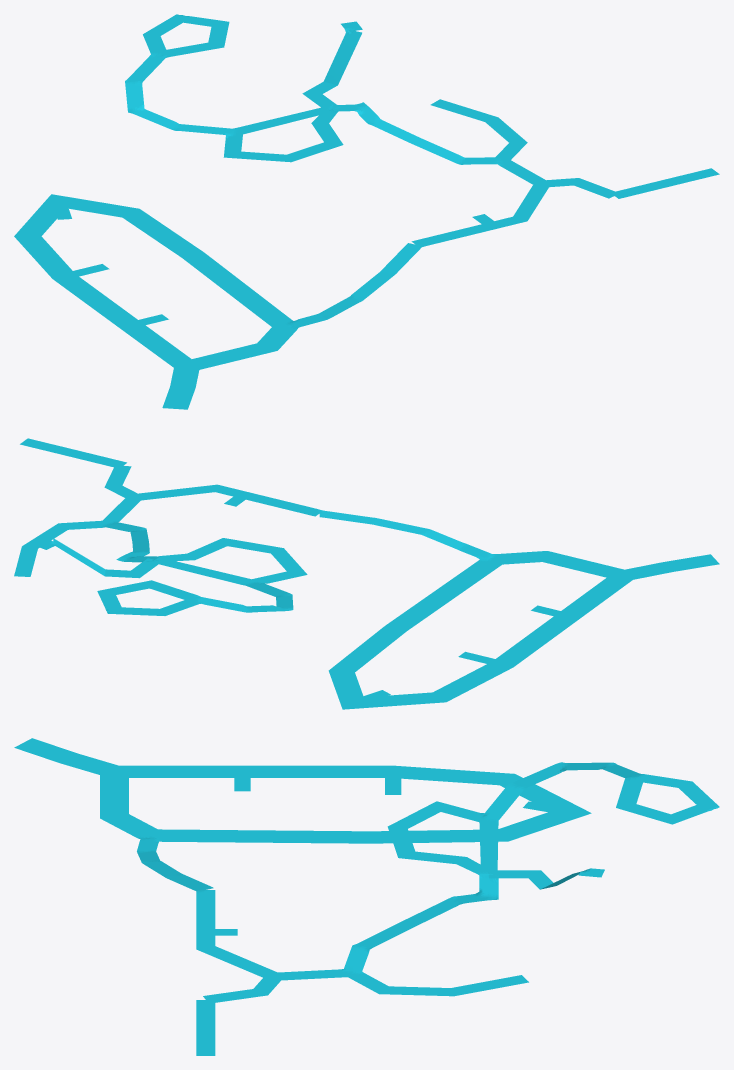
File: navigation.glb
The picture shows the model from 3 angles, top to bottom: view 1: azimuth 30°, elevation 25°; view 2: azimuth 150°, elevation 25°; view 3: azimuth 270°, elevation 25°; orthographic projection. The views are drawn at different scales.
Parts seen in each view (by area): view 1: NAV_town-loop, NAV_east-garden-trail, NAV_central-garden-trail, NAV_summit-garden-trail, NAV_terrace-ramp-3, NAV_terrace-ramp-1, NAV_terrace-ramp-2, NAV_Lookout_Smooth_Ramp, NAV_port-link, NAV_Bridge_Deck; view 2: NAV_town-loop, NAV_east-garden-trail, NAV_central-garden-trail, NAV_summit-garden-trail, NAV_terrace-ramp-1, NAV_terrace-ramp-3, NAV_port-link, NAV_terrace-ramp-2, NAV_Lookout_Smooth_Ramp, NAV_Bridge_Deck, NAV_bridge-approach; view 3: NAV_town-loop, NAV_east-garden-trail, NAV_central-garden-trail, NAV_summit-garden-trail, NAV_terrace-ramp-2, NAV_terrace-ramp-3, NAV_port-link, NAV_terrace-ramp-1, NAV_Bridge_Deck, NAV_bridge-approach, NAV_Lookout_Smooth_Ramp.
Boxes of the visible parts, x1,y1,x2,y2 form: NAV_town-loop: (14, 194, 299, 373); NAV_east-garden-trail: (411, 99, 551, 246); NAV_central-garden-trail: (223, 105, 344, 162); NAV_summit-garden-trail: (143, 14, 229, 61); NAV_terrace-ramp-3: (125, 53, 234, 135); NAV_terrace-ramp-1: (284, 243, 421, 329); NAV_terrace-ramp-2: (328, 102, 503, 164); NAV_Lookout_Smooth_Ramp: (302, 29, 361, 108); NAV_port-link: (162, 366, 199, 409); NAV_Bridge_Deck: (610, 174, 694, 198); NAV_town-loop: (328, 551, 640, 709); NAV_east-garden-trail: (14, 484, 321, 576); NAV_central-garden-trail: (135, 538, 307, 586); NAV_summit-garden-trail: (97, 580, 210, 615); NAV_terrace-ramp-1: (319, 510, 498, 561); NAV_terrace-ramp-3: (198, 582, 293, 612); NAV_port-link: (619, 554, 719, 580); NAV_terrace-ramp-2: (103, 521, 158, 562); NAV_Lookout_Smooth_Ramp: (53, 538, 158, 578); NAV_Bridge_Deck: (44, 444, 126, 468); NAV_bridge-approach: (104, 465, 140, 499); NAV_town-loop: (100, 765, 591, 843); NAV_east-garden-trail: (196, 890, 528, 996); NAV_central-garden-trail: (387, 801, 498, 886); NAV_summit-garden-trail: (616, 774, 719, 824); NAV_terrace-ramp-2: (343, 874, 498, 973); NAV_terrace-ramp-3: (482, 762, 642, 821); NAV_port-link: (14, 738, 122, 776); NAV_terrace-ramp-1: (137, 835, 213, 891); NAV_Bridge_Deck: (196, 1000, 215, 1042); NAV_bridge-approach: (203, 975, 282, 1002); NAV_Lookout_Smooth_Ramp: (489, 870, 586, 889).
Bounding box in the file's own units: 180 × 25.8 × 155.
